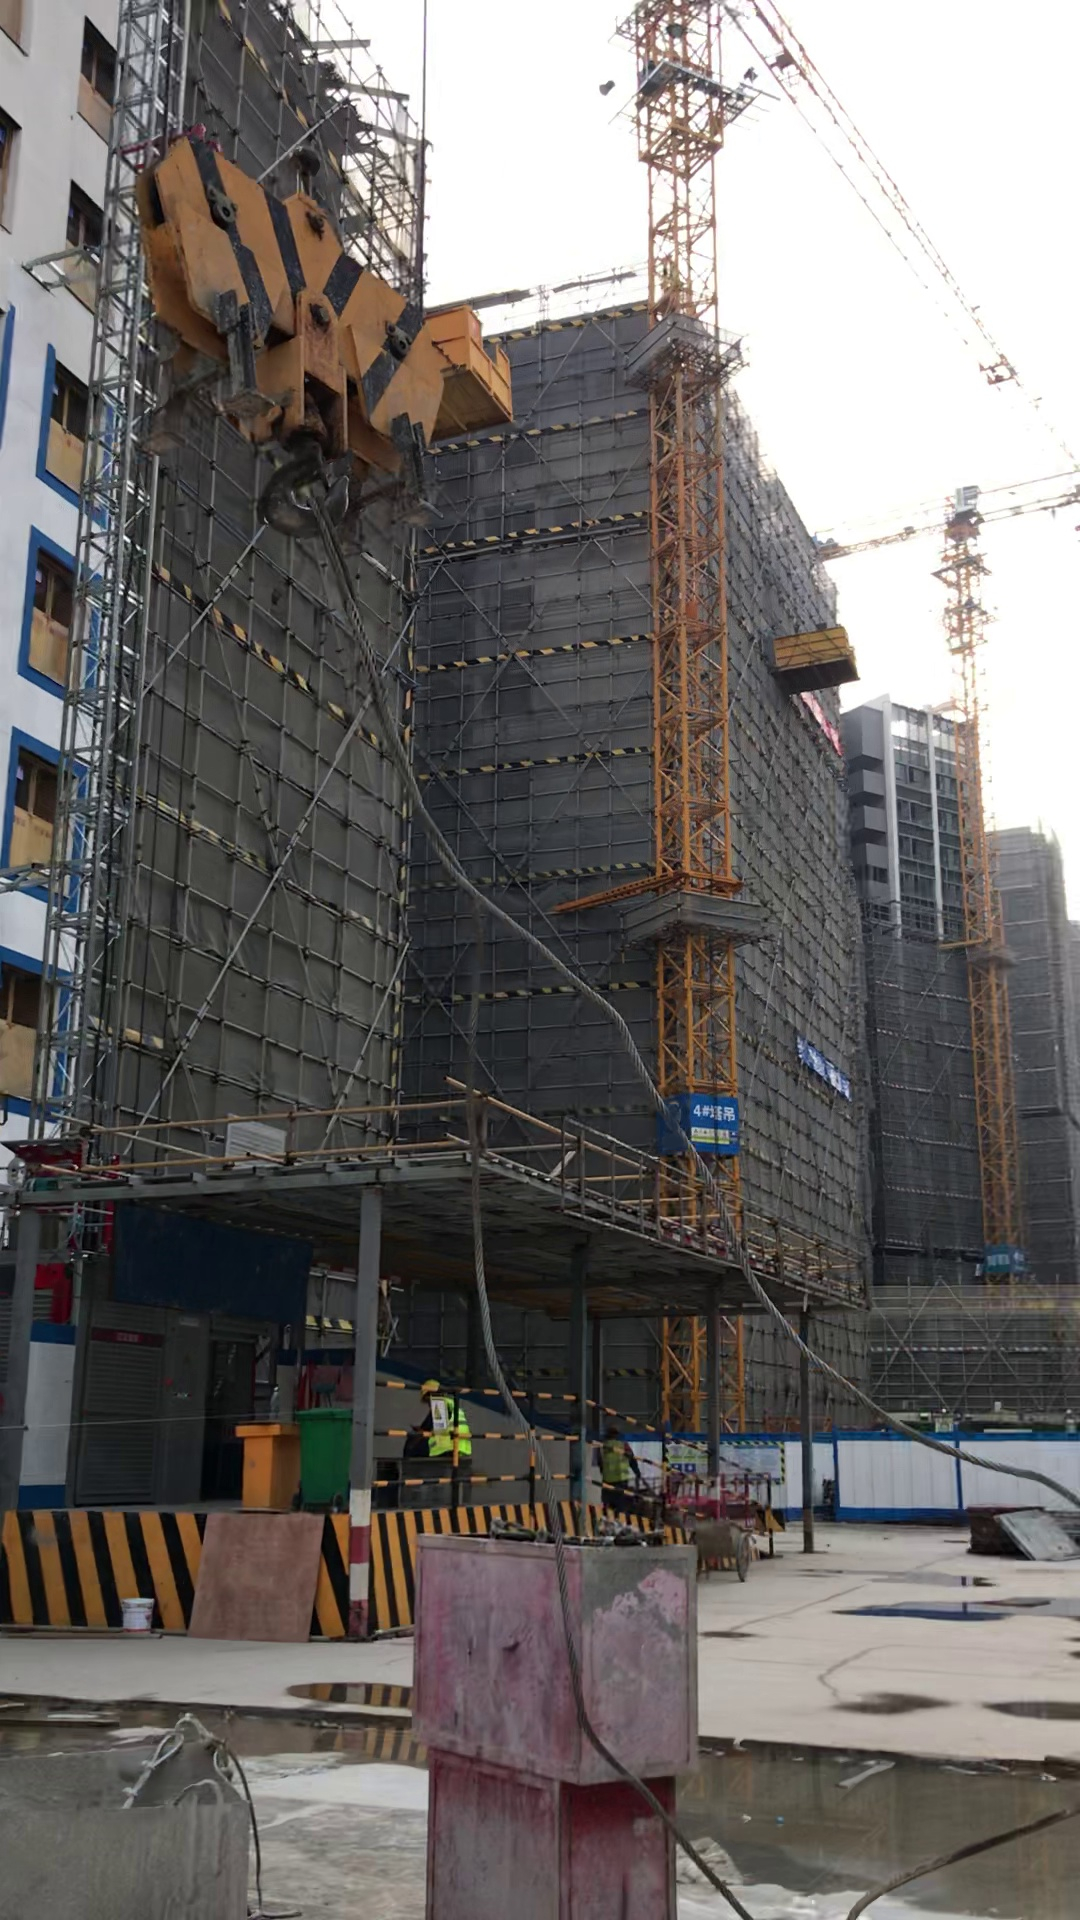handcart: (694, 1521, 757, 1582)
helmet: (420, 1382, 440, 1397)
hook: (141, 129, 440, 548)
hopper: (5, 1733, 259, 1910)
person: (413, 1381, 479, 1467), (590, 1426, 644, 1510)
slogan: (798, 1035, 852, 1101), (689, 1124, 738, 1147)
vest: (423, 1397, 472, 1457), (598, 1441, 628, 1484)
